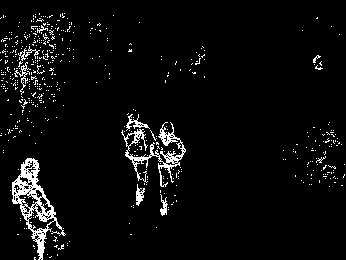person: (11, 156, 69, 260), (121, 106, 159, 207), (150, 120, 186, 216)
